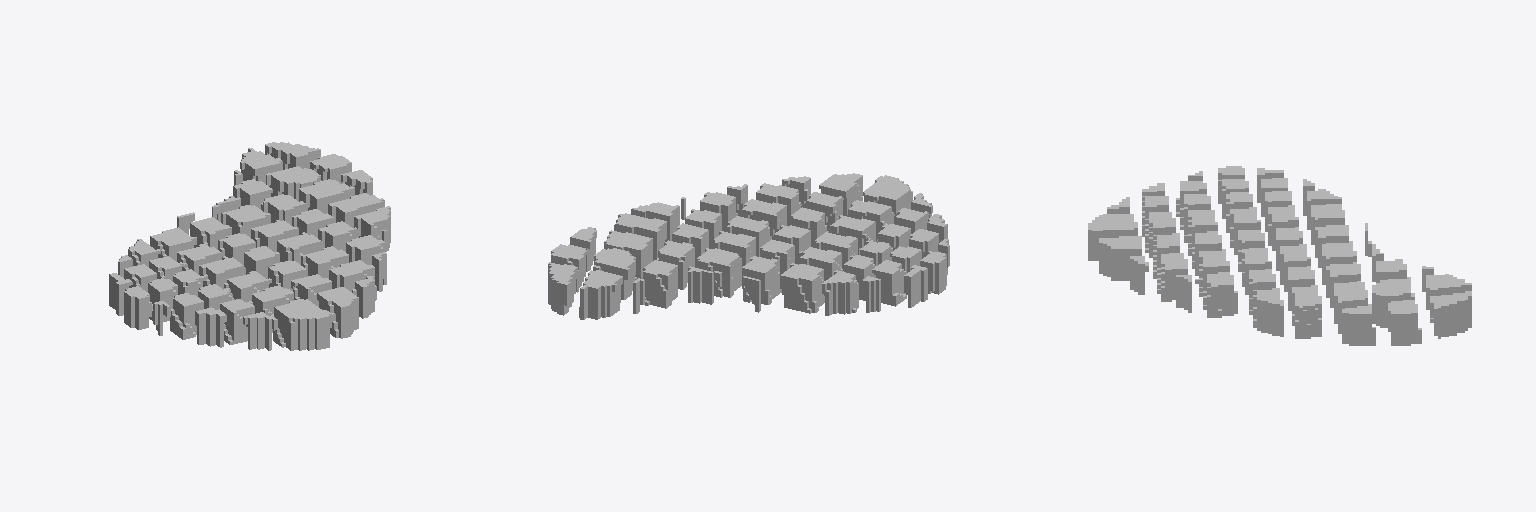
Rendered from FileteCarneCortado.obj.
3 views of the same model, side by side, from view 1: azimuth 30°, elevation 25°; view 2: azimuth 150°, elevation 25°; view 3: azimuth 270°, elevation 25° (orthographic).
Visible parts, largest first — view 1: object 1; view 2: object 1; view 3: object 1.
Part boxes in pixels (x1,y1,x2,y2): object 1: (109,142,390,350); object 1: (548,173,949,319); object 1: (1088,166,1471,345).
Size of the model in its own units: 9.1 by 0.9 by 10.